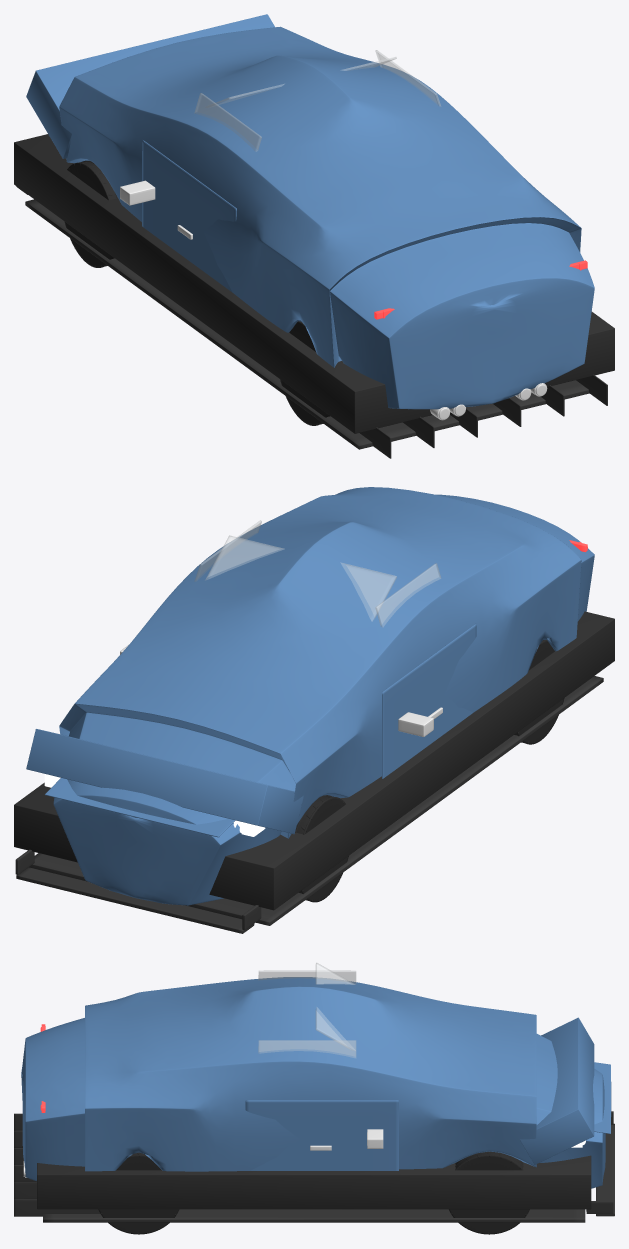
The model's file is vehicle.opt.glb.
The picture shows the model from 3 angles, top to bottom: view 1: azimuth 30°, elevation 25°; view 2: azimuth 150°, elevation 25°; view 3: azimuth 270°, elevation 25°; orthographic projection. The views are drawn at different scales.
Parts seen in each view (by area): view 1: BODY_MainShell, BODY_Espace_GreyBumpers, UNDERBODY_FlatFloor, BODY_Door_FL, BODY_Espace_RakedNose, GLASS_Greenhouse, WHEEL_FL_Tire, JEWELRY_Hardware, WHEEL_RL_Tire; view 2: BODY_MainShell, BODY_Espace_GreyBumpers, BODY_Espace_RakedNose, BODY_Door_FL, UNDERBODY_FlatFloor, GLASS_Greenhouse, AERO_FrontSplitter, BODY_Hood, WHEEL_FL_Tire, WHEEL_RL_Tire, JEWELRY_Hardware; view 3: BODY_MainShell, BODY_Espace_GreyBumpers, BODY_Door_FR, UNDERBODY_FlatFloor, BODY_Espace_RakedNose, GLASS_Greenhouse, WHEEL_FR_Tire, WHEEL_RR_Tire, AERO_FrontSplitter, BODY_Hood, JEWELRY_Hardware.
Part boxes in pixels (left/top/right/bottom): BODY_MainShell: left=59, top=26, right=594, bottom=409; BODY_Espace_GreyBumpers: left=14, top=134, right=614, bottom=433; UNDERBODY_FlatFloor: left=25, top=199, right=607, bottom=458; BODY_Door_FL: left=142, top=139, right=236, bottom=292; BODY_Espace_RakedNose: left=26, top=14, right=274, bottom=158; GLASS_Greenhouse: left=194, top=50, right=440, bottom=151; WHEEL_FL_Tire: left=64, top=160, right=117, bottom=267; JEWELRY_Hardware: left=120, top=180, right=547, bottom=420; WHEEL_RL_Tire: left=280, top=321, right=330, bottom=425; BODY_MainShell: left=53, top=487, right=594, bottom=905; BODY_Espace_GreyBumpers: left=14, top=611, right=614, bottom=910; BODY_Espace_RakedNose: left=26, top=729, right=303, bottom=834; BODY_Door_FL: left=382, top=623, right=476, bottom=778; UNDERBODY_FlatFloor: left=29, top=676, right=603, bottom=925; GLASS_Greenhouse: left=194, top=520, right=440, bottom=627; AERO_FrontSplitter: left=15, top=849, right=261, bottom=933; BODY_Hood: left=45, top=778, right=235, bottom=837; WHEEL_FL_Tire: left=295, top=795, right=348, bottom=902; WHEEL_RL_Tire: left=514, top=640, right=564, bottom=744; JEWELRY_Hardware: left=120, top=645, right=442, bottom=736; BODY_MainShell: left=21, top=977, right=605, bottom=1188; BODY_Espace_GreyBumpers: left=37, top=1155, right=591, bottom=1209; BODY_Door_FR: left=245, top=1100, right=398, bottom=1170; UNDERBODY_FlatFloor: left=14, top=1113, right=585, bottom=1222; BODY_Espace_RakedNose: left=520, top=1017, right=594, bottom=1164; GLASS_Greenhouse: left=258, top=963, right=356, bottom=1057; WHEEL_FR_Tire: left=449, top=1151, right=529, bottom=1234; WHEEL_RR_Tire: left=98, top=1152, right=179, bottom=1234; AERO_FrontSplitter: left=586, top=1111, right=614, bottom=1216; BODY_Hood: left=594, top=1062, right=611, bottom=1133; JEWELRY_Hardware: left=23, top=1129, right=383, bottom=1177.
Size of what is drawn, in the model's own units: 2.1 by 1.63 by 4.42.
